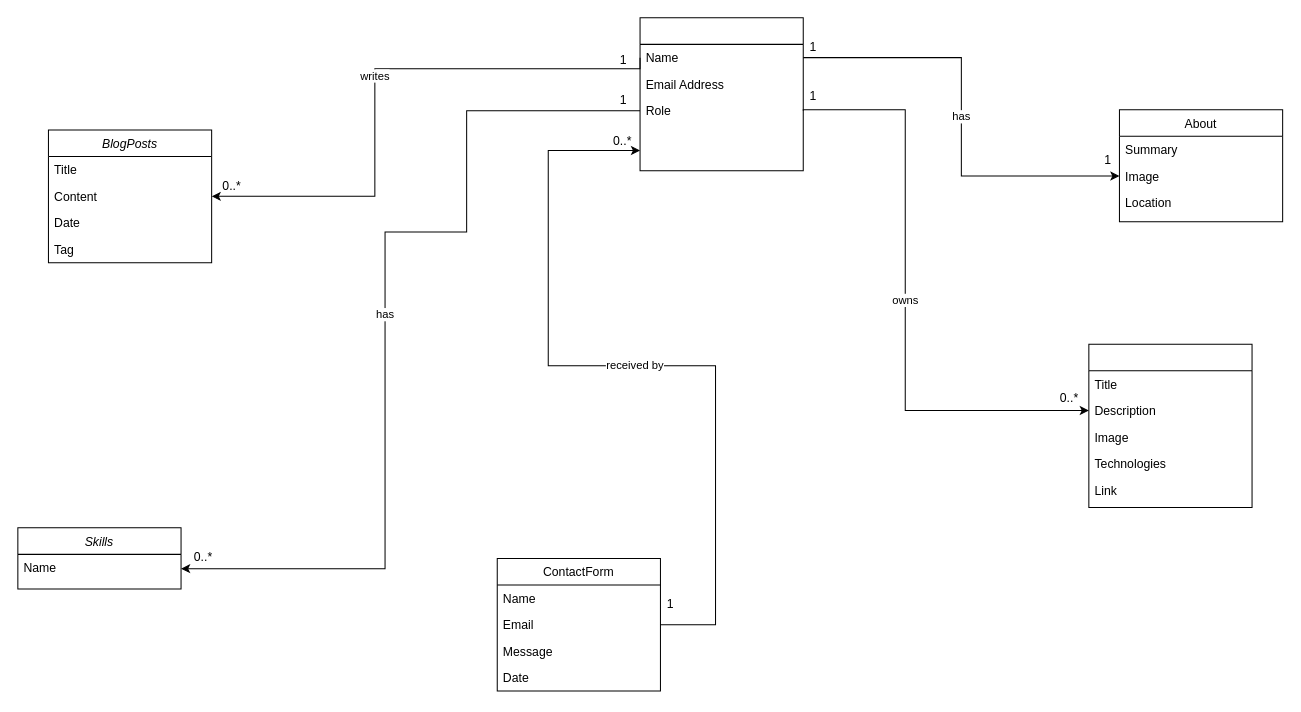
Some shapes in this 1301 by 712 pixel diagram are drawn without their labels. The box of each missing label's shape, as (x1, y1, x2, y2) in pixels:
Project: (1088, 343, 1252, 507)
User: (639, 17, 803, 171)
